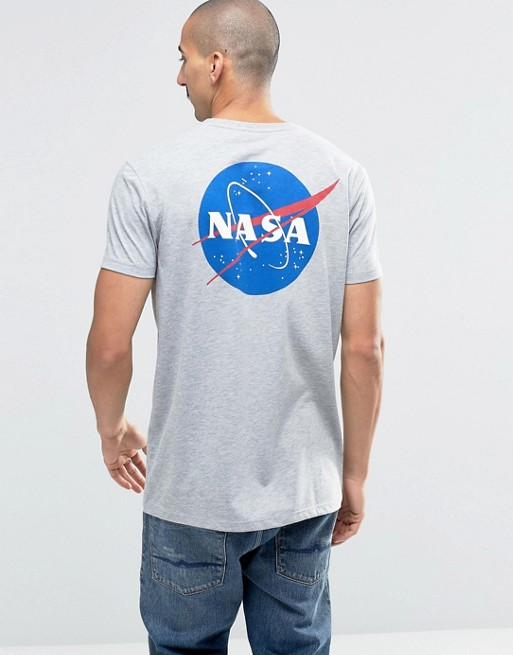NASA: (190, 164, 343, 296)
